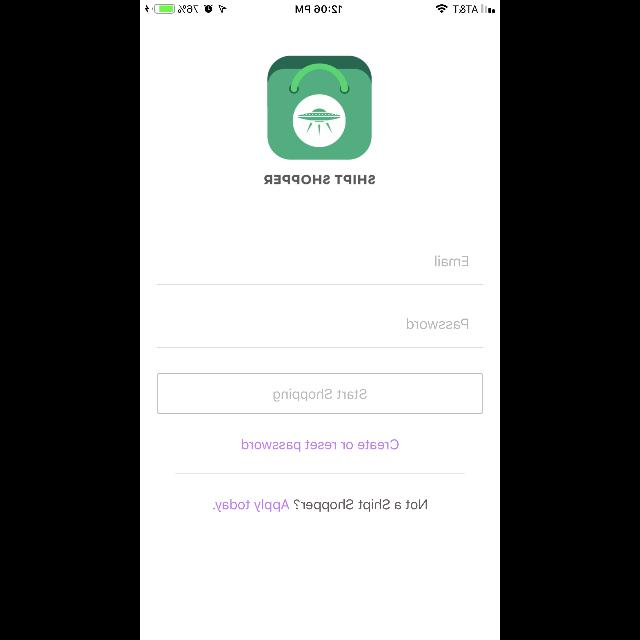image: (266, 56, 372, 160)
input: (156, 256, 484, 286), (156, 318, 484, 348)
text: (213, 498, 427, 512), (242, 440, 398, 452), (264, 175, 374, 185), (406, 318, 468, 329), (434, 256, 468, 266)
textbutton: (158, 372, 482, 413)
uppertaskbar: (140, 0, 500, 14)
